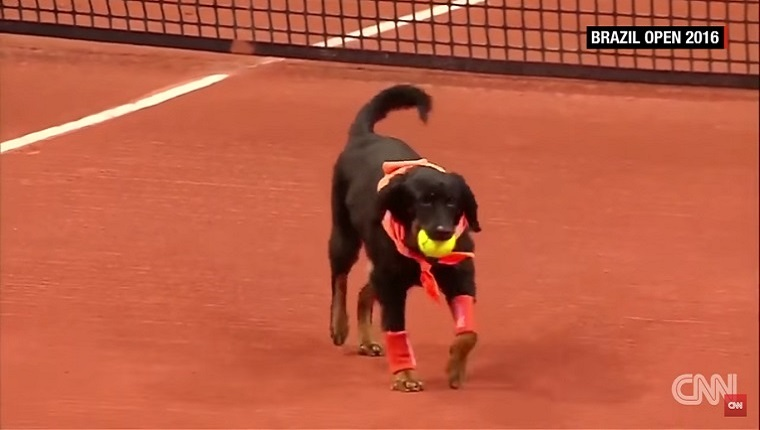tennis_ball: (415, 224, 458, 260)
